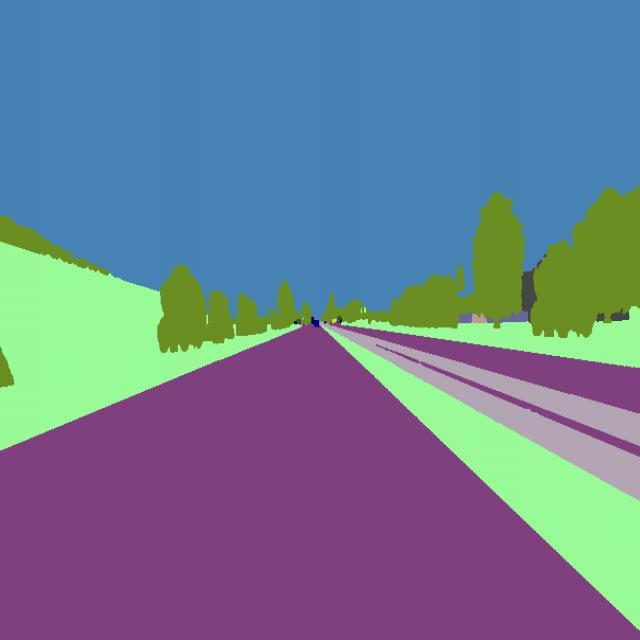safe: (313, 316, 320, 329)
